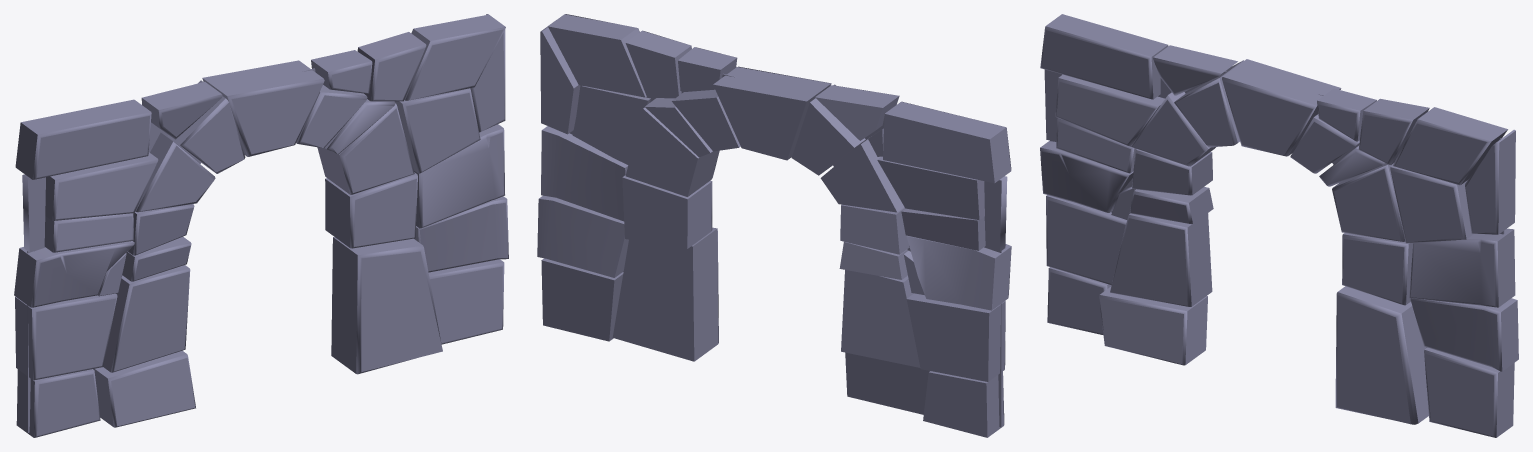
File: stone_arch.fbx
3 renders of one model, left to right at view 1: azimuth 30°, elevation 25°; view 2: azimuth 150°, elevation 25°; view 3: azimuth 330°, elevation 25°, orthographic. The views are drawn at different scales.
Parts seen in each view (by area): view 1: Cube.002; view 2: Cube.002; view 3: Cube.002.
Boxes of the visible parts, box(x1,y1,x2,y2) form: Cube.002: box(14, 14, 508, 437); Cube.002: box(537, 14, 1011, 437); Cube.002: box(1040, 14, 1518, 437).
Bounding box in the file's own units: 6.16 × 3.85 × 0.8578.
